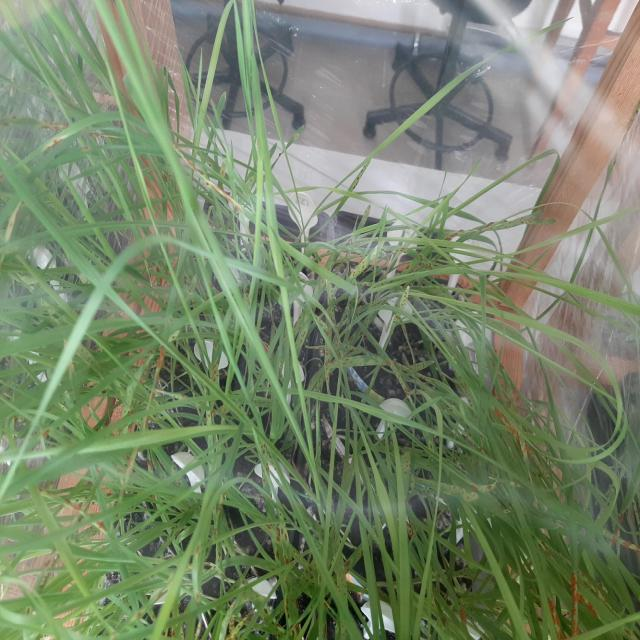wheat-stemrust: (143, 349, 166, 428), (210, 358, 220, 387)
